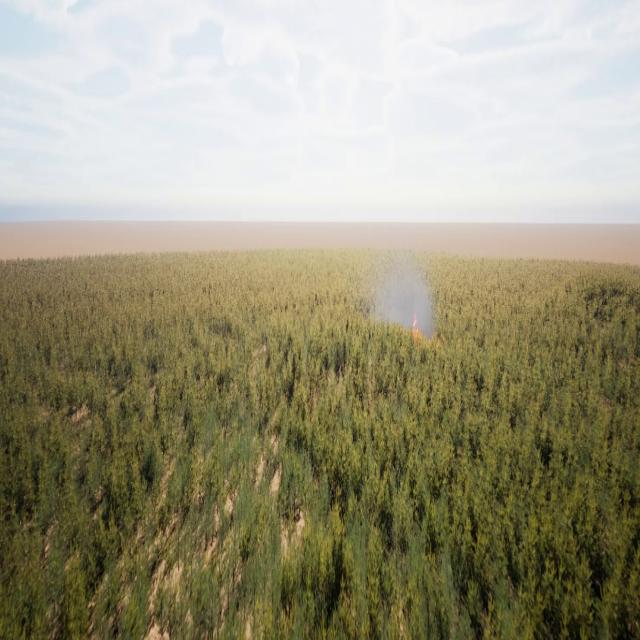fire: (412, 316, 428, 342)
smoke: (376, 247, 440, 350)
